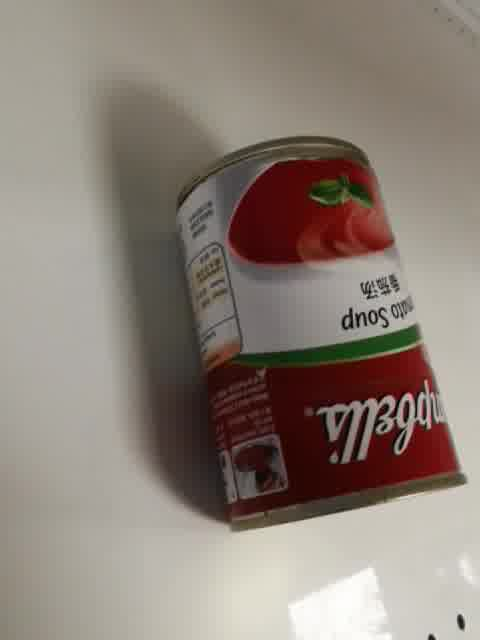tomatosoup: (171, 131, 468, 534)
